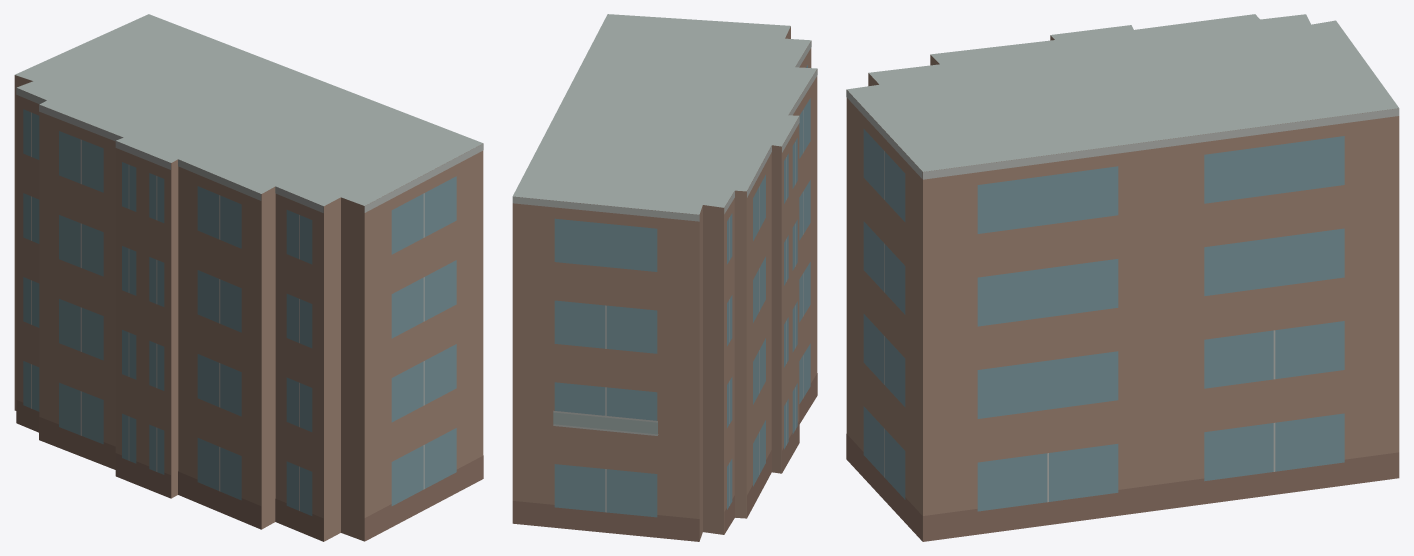
The model's file is survey-upis-32616392.glb.
3 views of the same model, side by side, from view 1: azimuth 30°, elevation 25°; view 2: azimuth 150°, elevation 25°; view 3: azimuth 270°, elevation 25° (orthographic). The views are drawn at different scales.
Parts seen in each view (by area): view 1: survey-upis-32616392.tmp; view 2: survey-upis-32616392.tmp; view 3: survey-upis-32616392.tmp.
Part boxes in pixels (x1,y1,x2,y2): survey-upis-32616392.tmp: (14,14,483,541); survey-upis-32616392.tmp: (512,14,817,541); survey-upis-32616392.tmp: (846,14,1399,541).
Size of the model in its own units: 10.63 by 11.6 by 15.72.
